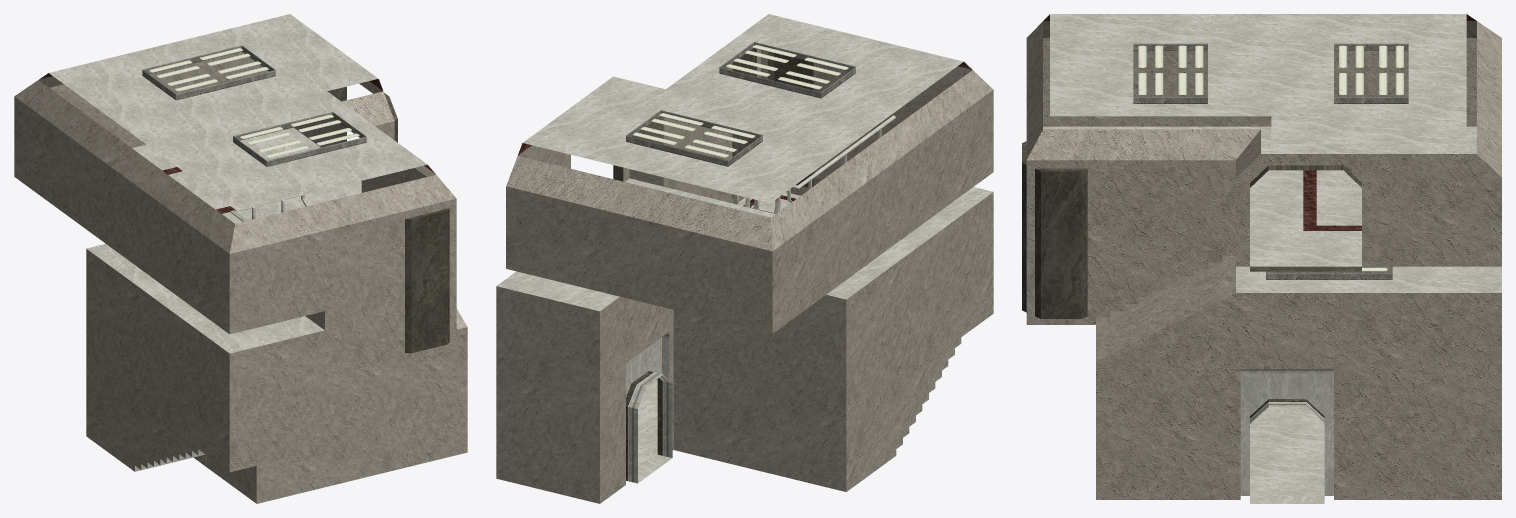
File: thm_all_assoc_hall_civ_s01_r6_stairwellb_mesh_stairwellb.fbx
3 views of the same model, side by side, from view 1: azimuth 30°, elevation 25°; view 2: azimuth 150°, elevation 25°; view 3: azimuth 270°, elevation 25° (orthographic). The views are drawn at different scales.
Visible parts, largest first — view 1: mesh_node; view 2: mesh_node; view 3: mesh_node.
Part boxes in pixels (bbox=[...]): mesh_node: bbox=[14, 14, 467, 503]; mesh_node: bbox=[496, 14, 993, 503]; mesh_node: bbox=[1022, 14, 1501, 503].
Size of the model in its own units: 9.45 by 10.58 by 12.86.
